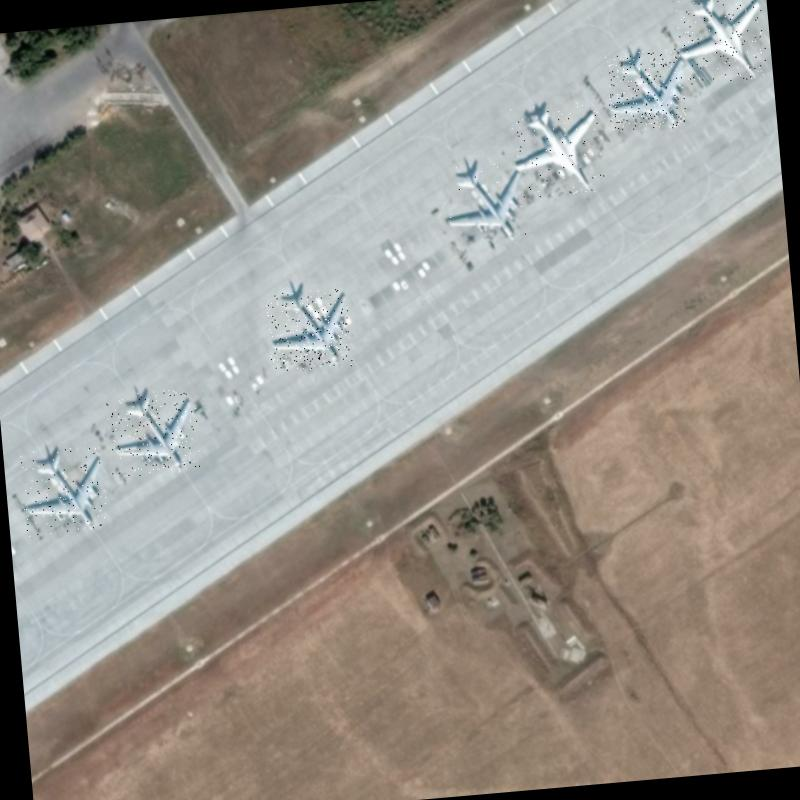A17: (106, 388, 201, 478), (19, 445, 109, 537), (436, 159, 526, 246), (265, 287, 353, 373), (604, 48, 688, 134)
A6: (506, 98, 606, 200), (673, 0, 768, 85)
